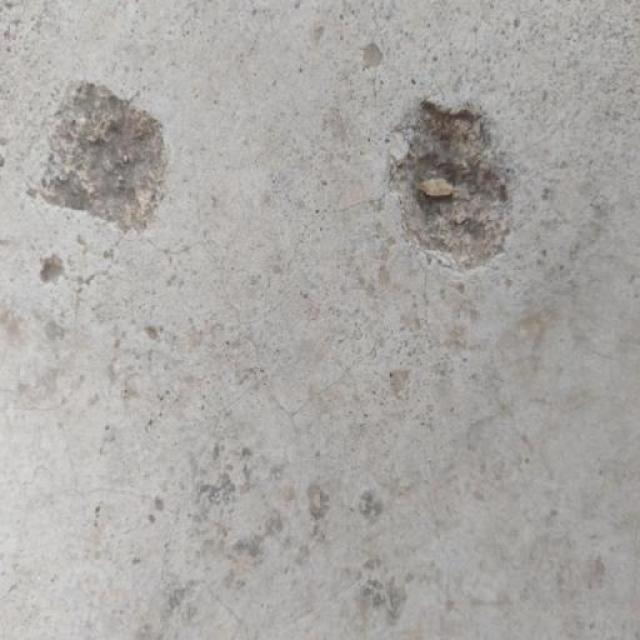D10: (26, 81, 169, 232), (390, 99, 512, 269)
